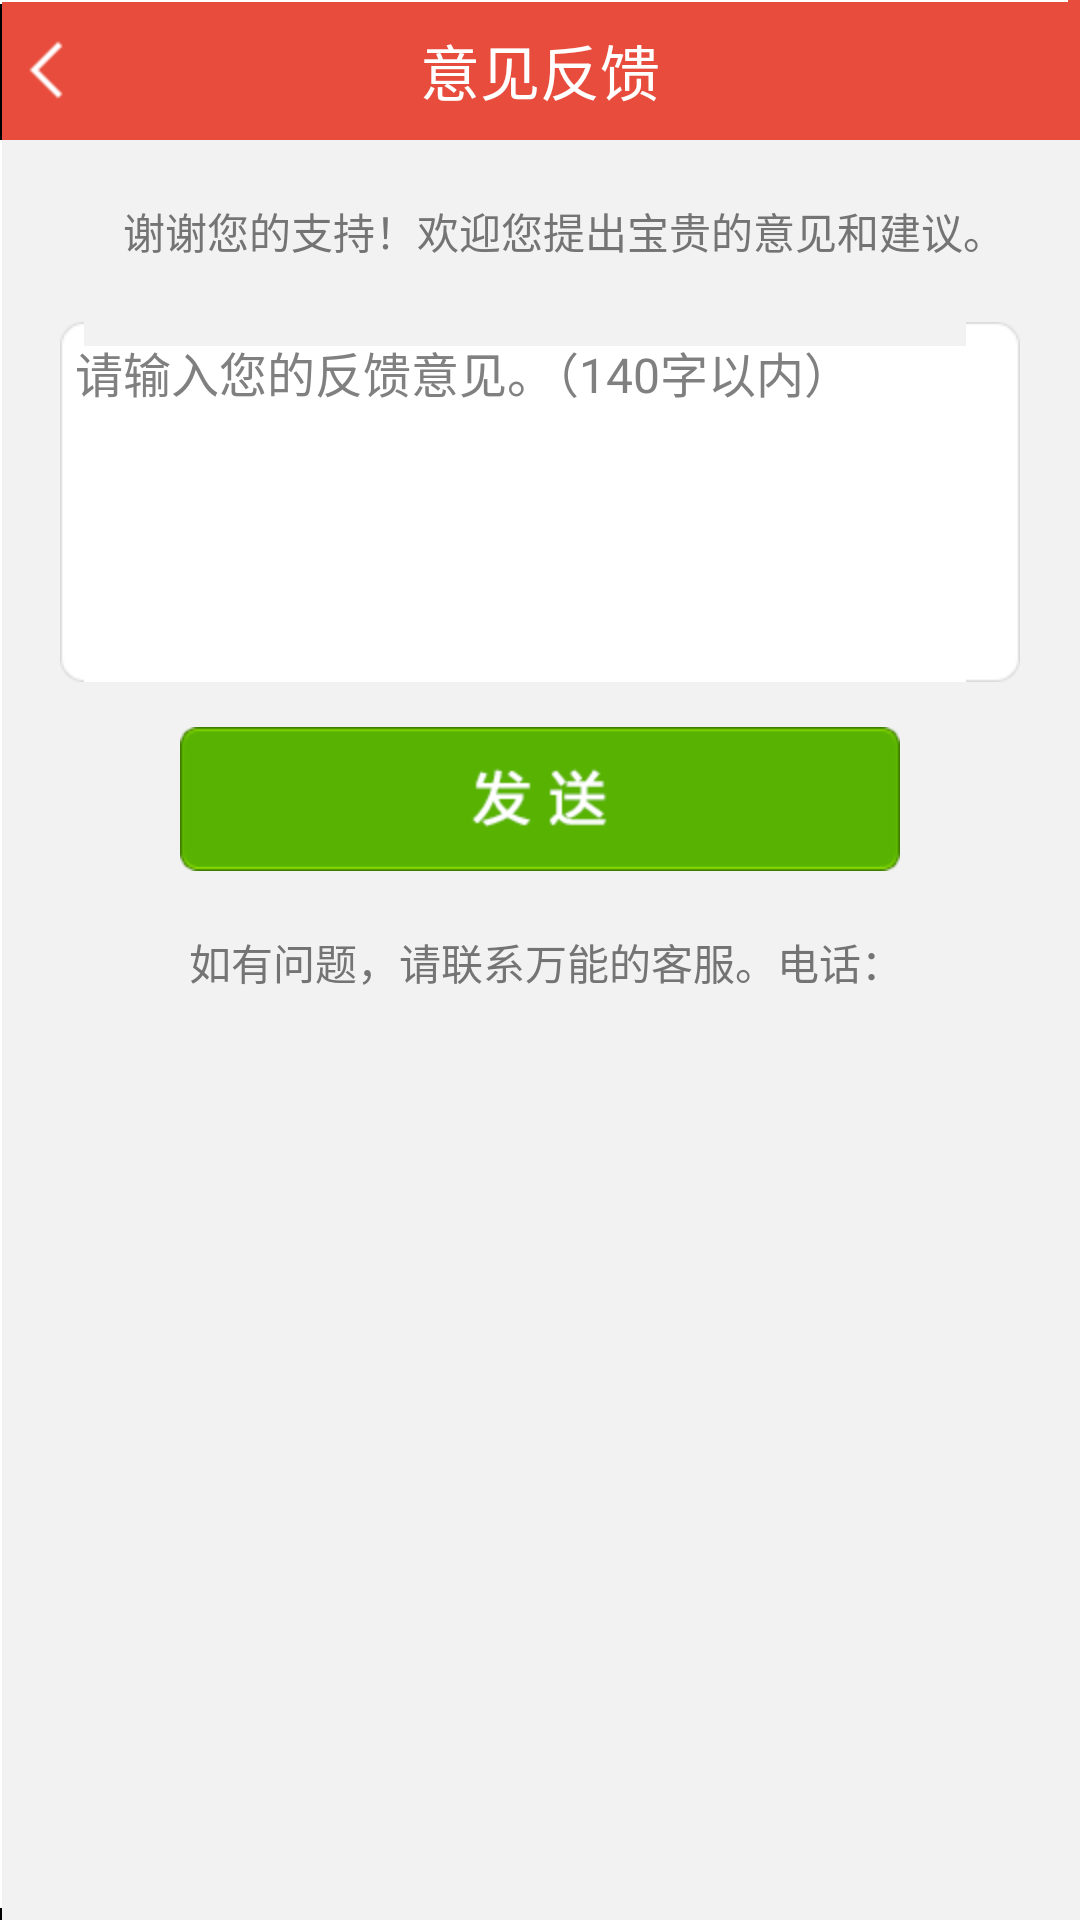

Where to tap for icons on this 1080×1920 app screen, as point (x, y):
back: point (46, 70)
